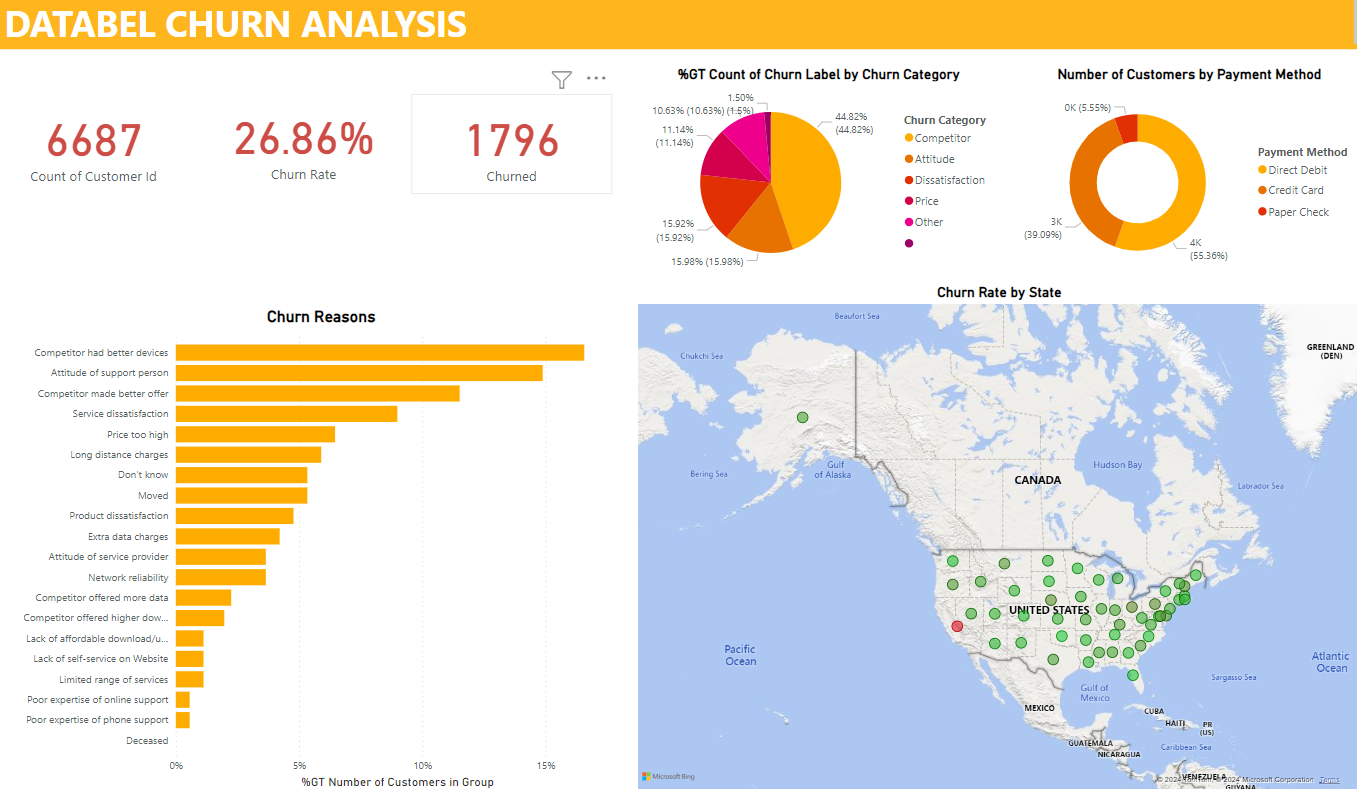

This screenshot's page, from the dashboard's own definition file:
{"tool":"powerbi","page":{"name":"Overview","canvas":[1640,960],"ordinal":0},"visuals":[{"type":"card","fields":{"Values":["Databel - Data.Number of Customers"]},"box":[0,120.2,225.4,120.2],"z":0},{"type":"card","fields":{"Values":["Databel - Data.Churn Rate"]},"box":[235.9,117.2,258.4,120.2],"z":1000},{"type":"card","fields":{"Values":["Databel - Data.Number of Churned Customers"]},"box":[494.3,120.2,241.9,120.2],"z":2000},{"type":"clusteredBarChart","title":"Churn Reasons","fields":{"Y":["Sum(Databel - Data.Number of Customers in Group)"],"Category":["Databel - Data.Churn Reason"]},"box":[10.5,377.1,751.2,582.9],"z":3000},{"type":"pieChart","fields":{"Y":["CountNonNull(Databel - Data.Churn Label)"],"Category":["Databel - Data.Churn Category"]},"box":[761.7,85.6,444.7,262.9],"z":4000},{"type":"donutChart","fields":{"Y":["Databel - Data.Number of Customers"],"Category":["Databel - Data.Payment Method"]},"box":[1218.4,85.6,422.2,262.9],"z":5000},{"type":"map","title":"Churn Rate by State","fields":{"Category":["Databel - Data.State"]},"box":[761.1,348,878.9,611.7],"z":6000},{"type":"textbox","box":[0,0,1640.6,66.1],"z":6001}]}

Visuals, with their boxes in screenshot pixels (x1, y1, x2, y2), scaled from the page's 1640x960 canvas onto the 1357x792 screenshot:
card - Databel - Data.Number of Customers: 0/99/187/198
card - Databel - Data.Churn Rate: 195/97/409/196
card - Databel - Data.Number of Churned Customers: 409/99/609/198
"Churn Reasons" clusteredBarChart: 9/311/630/791
pieChart - CountNonNull(Databel - Data.Churn Label) x Databel - Data.Churn Category: 630/71/998/288
donutChart - Databel - Data.Number of Customers x Databel - Data.Payment Method: 1008/71/1356/288
"Churn Rate by State" map: 630/287/1356/791
textbox: 0/0/1356/55
